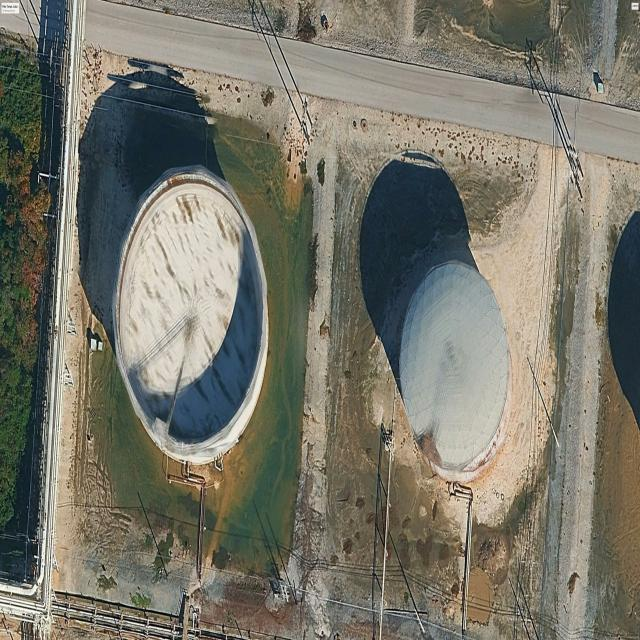Oil Rafinery: (112, 165, 268, 464), (399, 261, 511, 477)
